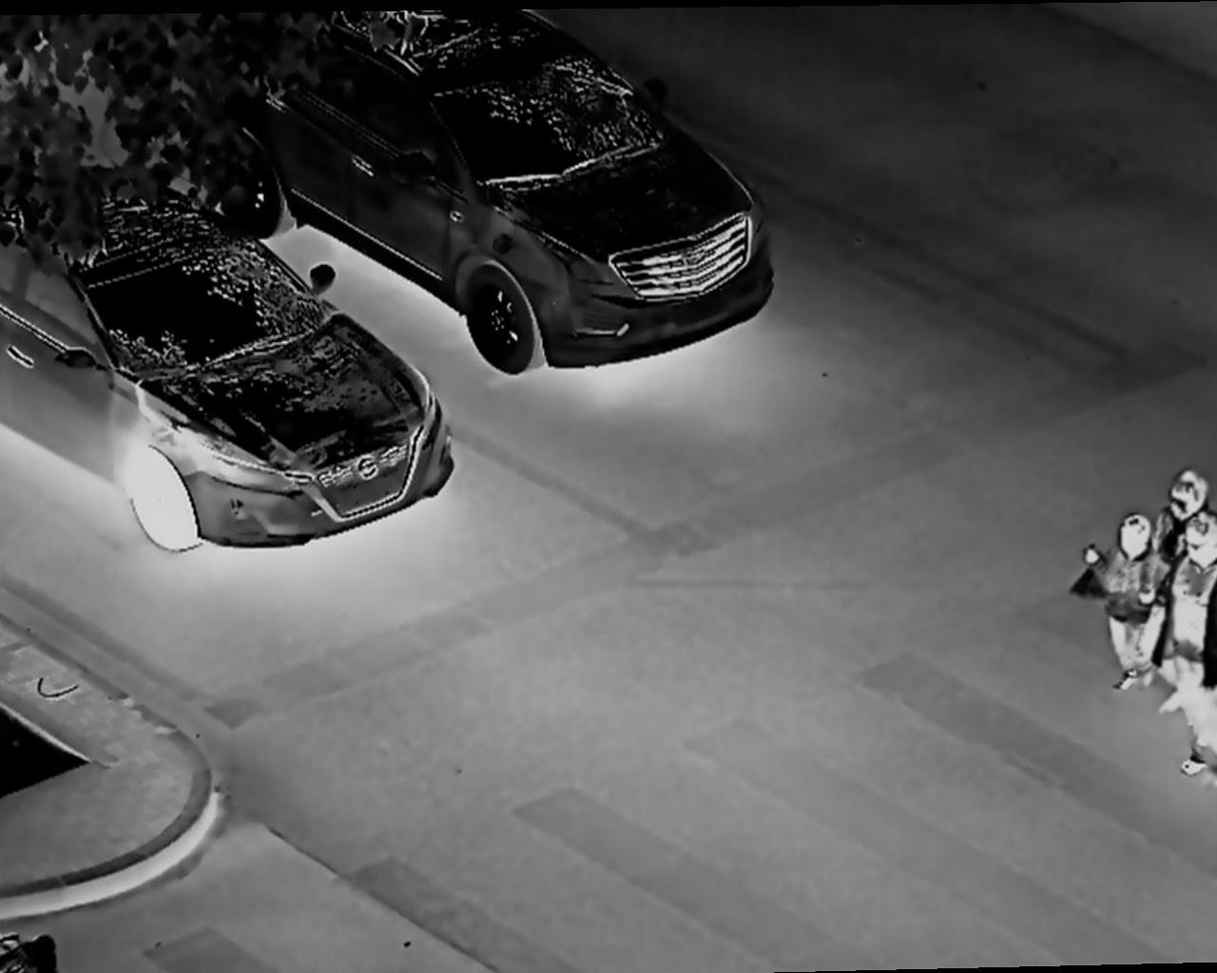person: (1081, 515, 1166, 701), (1159, 511, 1217, 772), (1152, 462, 1217, 526)
